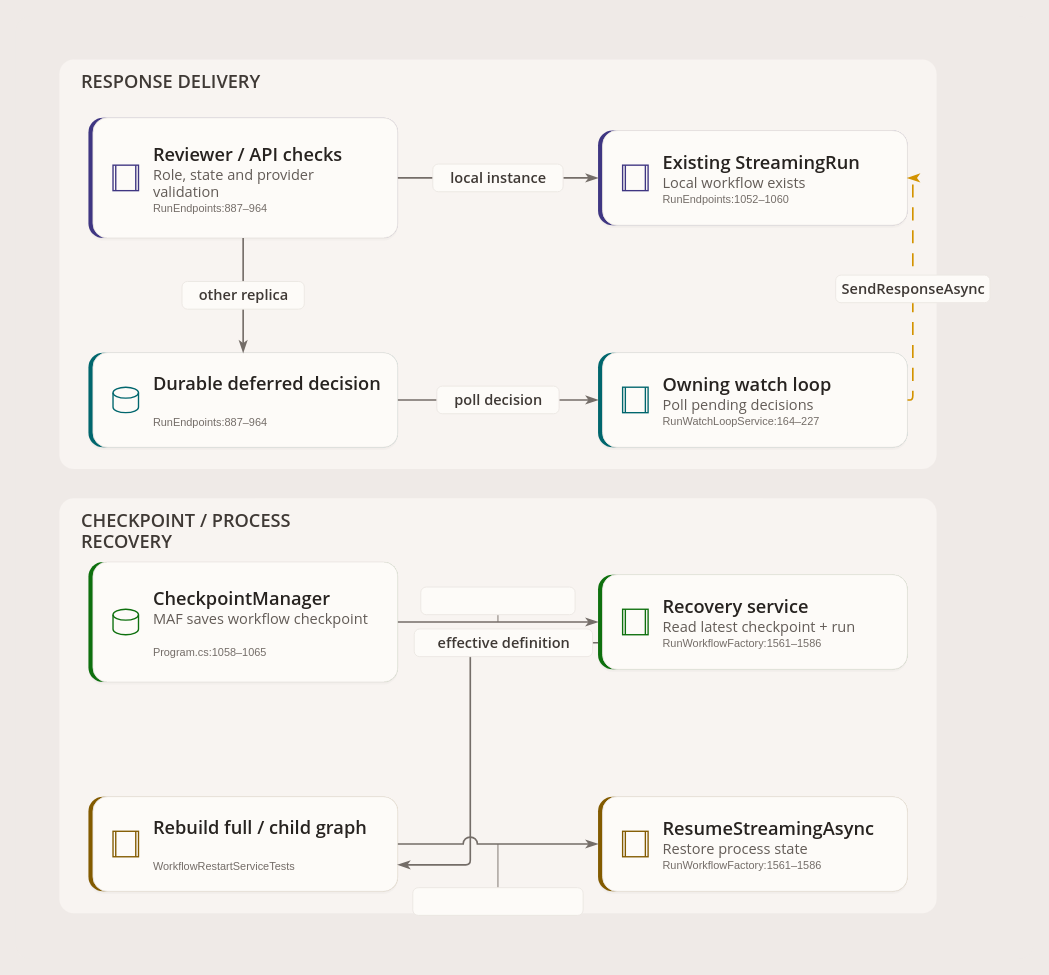
Image size: 1049x975. Some labels were removed from this diagram. Here are the shapes that lost their labels. From the top down, the centre of each, then its label:
the point at 497,600: latest checkpoint
the point at 497,901: rebuild then resume
